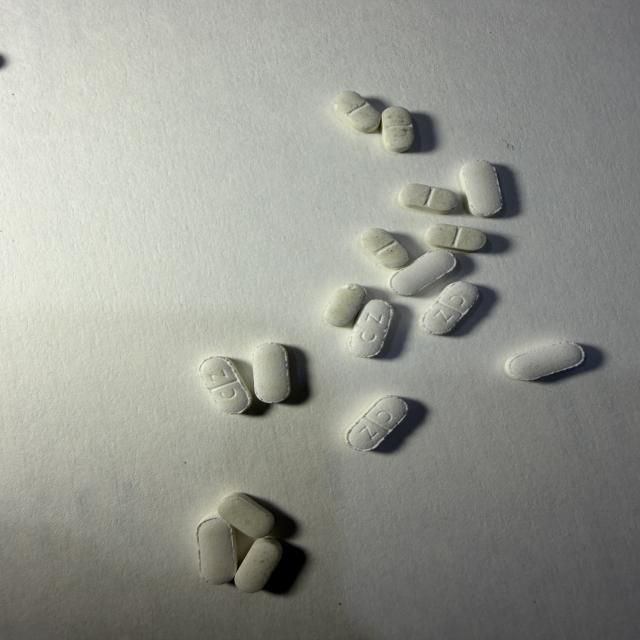pill: (346, 396, 408, 451), (505, 341, 584, 380), (420, 281, 478, 334), (389, 250, 455, 295), (200, 357, 251, 414), (197, 516, 237, 584), (235, 537, 282, 592), (218, 493, 274, 537), (350, 300, 393, 357), (460, 161, 502, 216), (253, 343, 291, 403), (334, 91, 380, 132), (361, 229, 408, 268), (325, 284, 366, 326), (399, 184, 457, 213), (425, 224, 486, 251), (382, 107, 414, 152)
